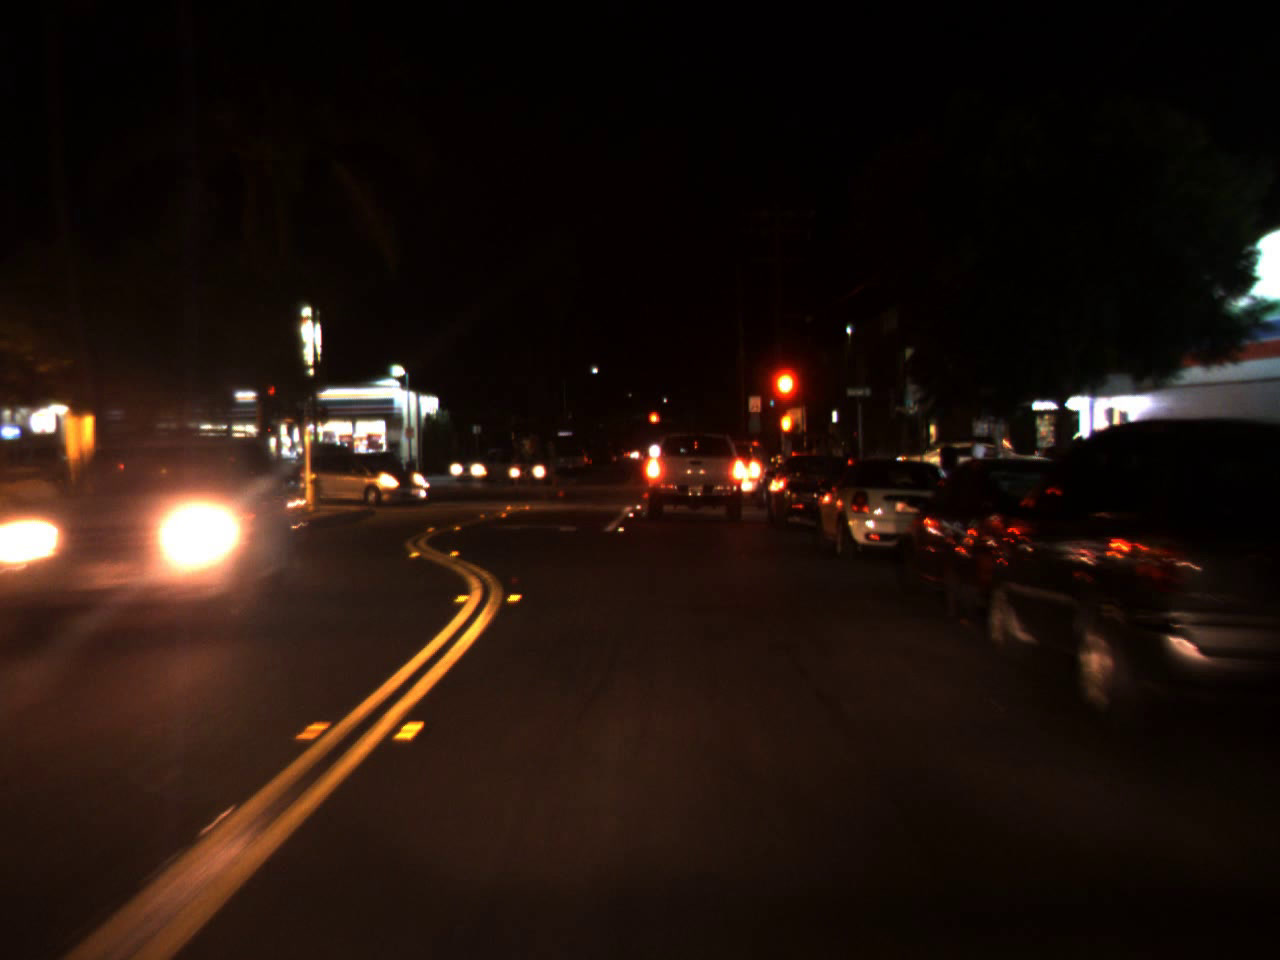stop: (769, 362, 799, 432), (647, 412, 660, 433), (269, 386, 275, 402)
